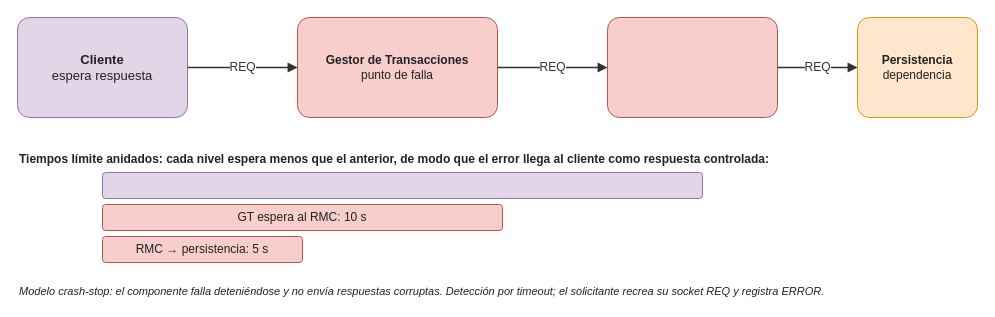
This 995x317 diagram has some shape labels left out. Each missing label, with the centre of its shape:
"Cliente espera al GT: 15 s" belongs at pixel 402 185.
"RMC punto de falla" belongs at pixel 692 67.
